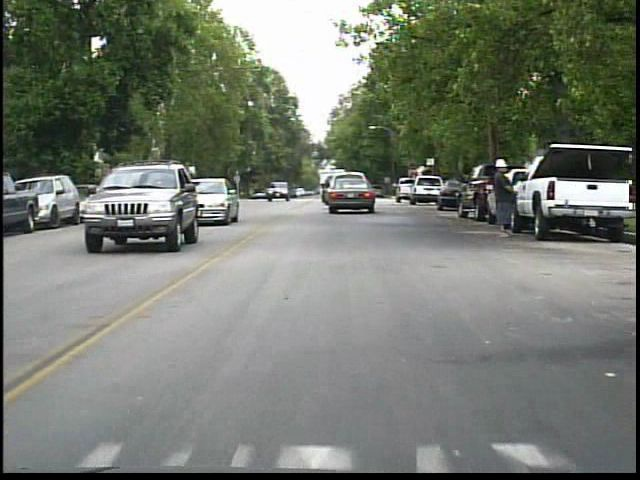person: (489, 155, 521, 241)
